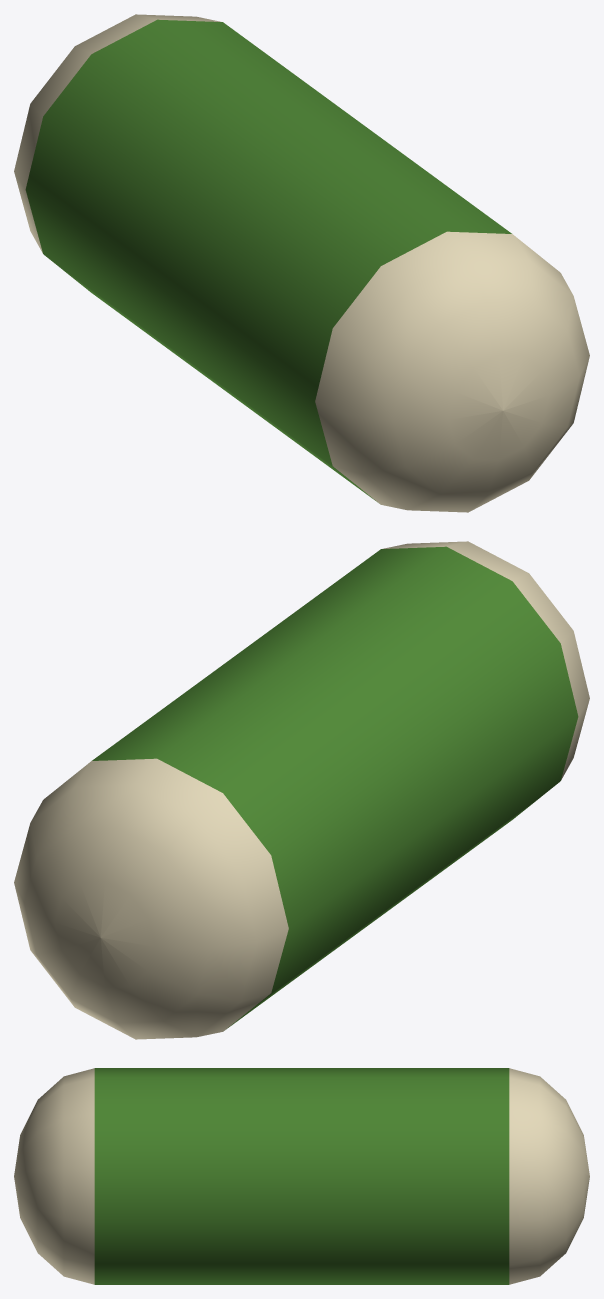
File: u500_scrubber.obj
3 views of the same model, one above another, from view 1: azimuth 30°, elevation 25°; view 2: azimuth 150°, elevation 25°; view 3: azimuth 270°, elevation 25° (orthographic). The views are drawn at different scales.
Visible parts, largest first — view 1: u500_scrubber; view 2: u500_scrubber; view 3: u500_scrubber.
Part boxes in pixels (<box>): u500_scrubber: <box>14,14,589,512</box>; u500_scrubber: <box>14,541,589,1039</box>; u500_scrubber: <box>14,1068,589,1284</box>.
Size of the model in its own units: 2.1 by 2.1 by 5.56.
